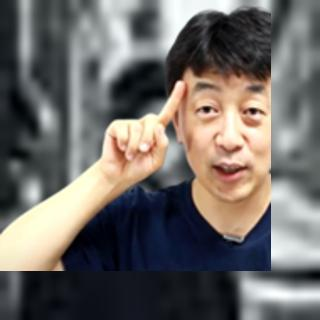IRRITATED: (95, 77, 190, 192)
